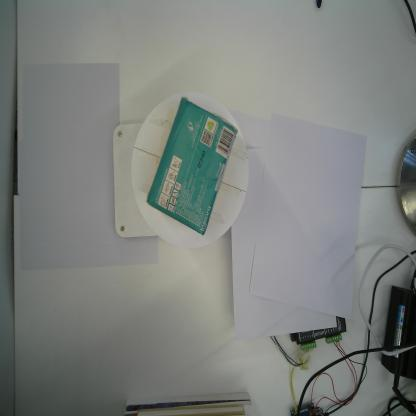Tissue: (146, 96, 240, 237)
